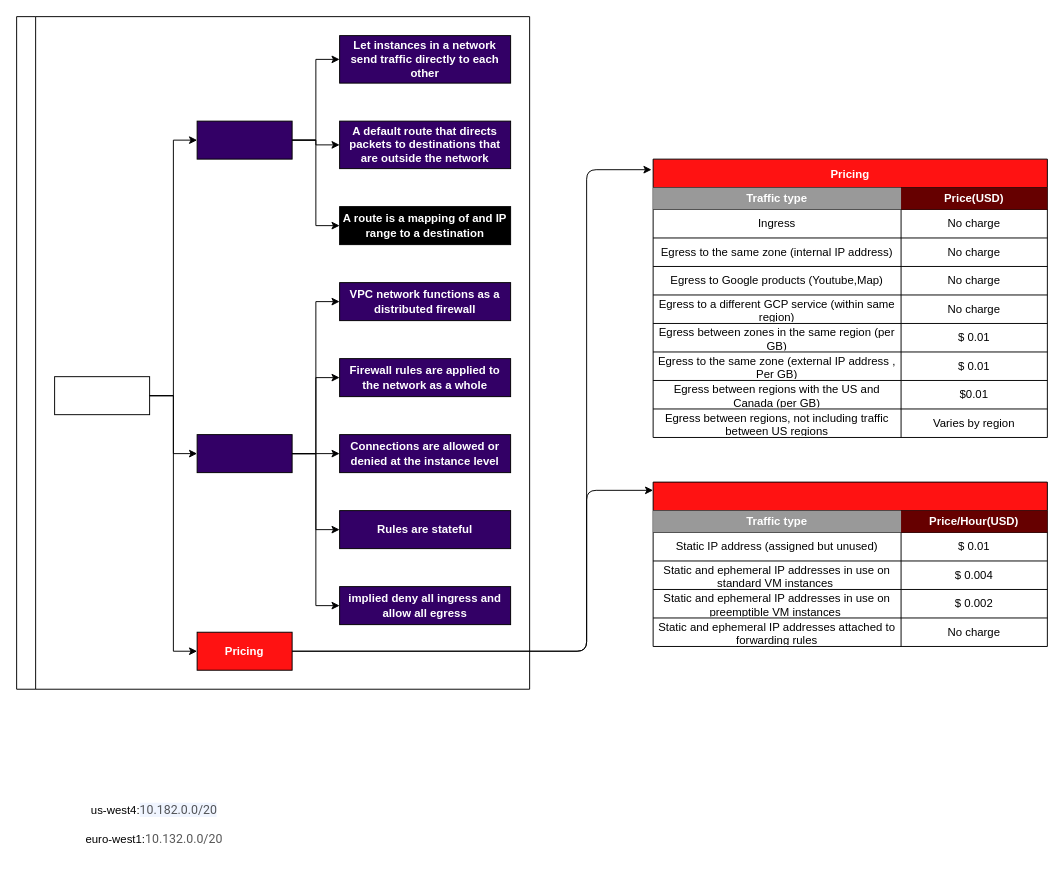
Some shapes in this 1064 by 869 pixel diagram are drawn without their labels. Here are the shapes that lost their labels. From the top down, the box of each, then its label:
(196, 120, 292, 159): Routes
(54, 376, 150, 415): Network
(196, 434, 292, 473): Firewalls
(652, 481, 1047, 646): External IP address pricing (us-central1)
